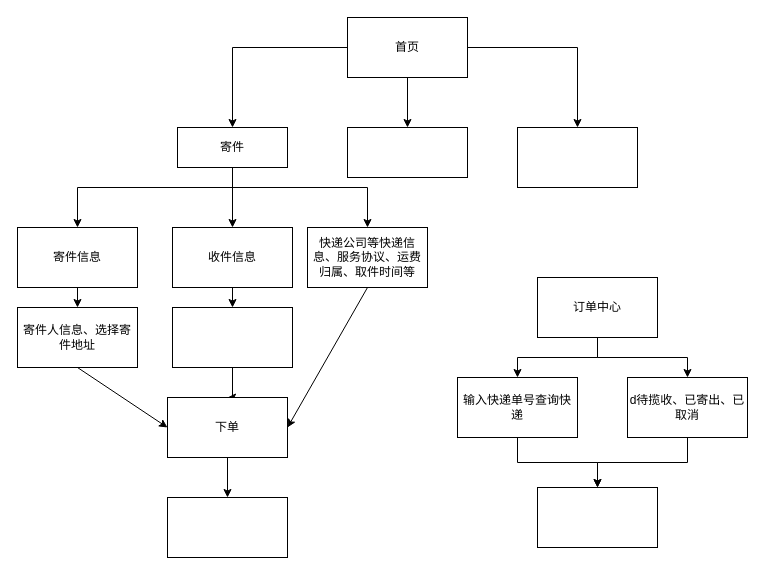
This 765x575 diagram has some shape labels left out. The box of each missing label's shape, as (x1, y1, x2, y2) in pixels:
从客户列表中选择、添加收件人信息: (172, 306, 292, 368)
扫码寄件: (516, 126, 638, 188)
查看订单/继续下单: (166, 496, 288, 558)
查看订单详情: (536, 486, 658, 548)
近期物流: (346, 126, 468, 178)
